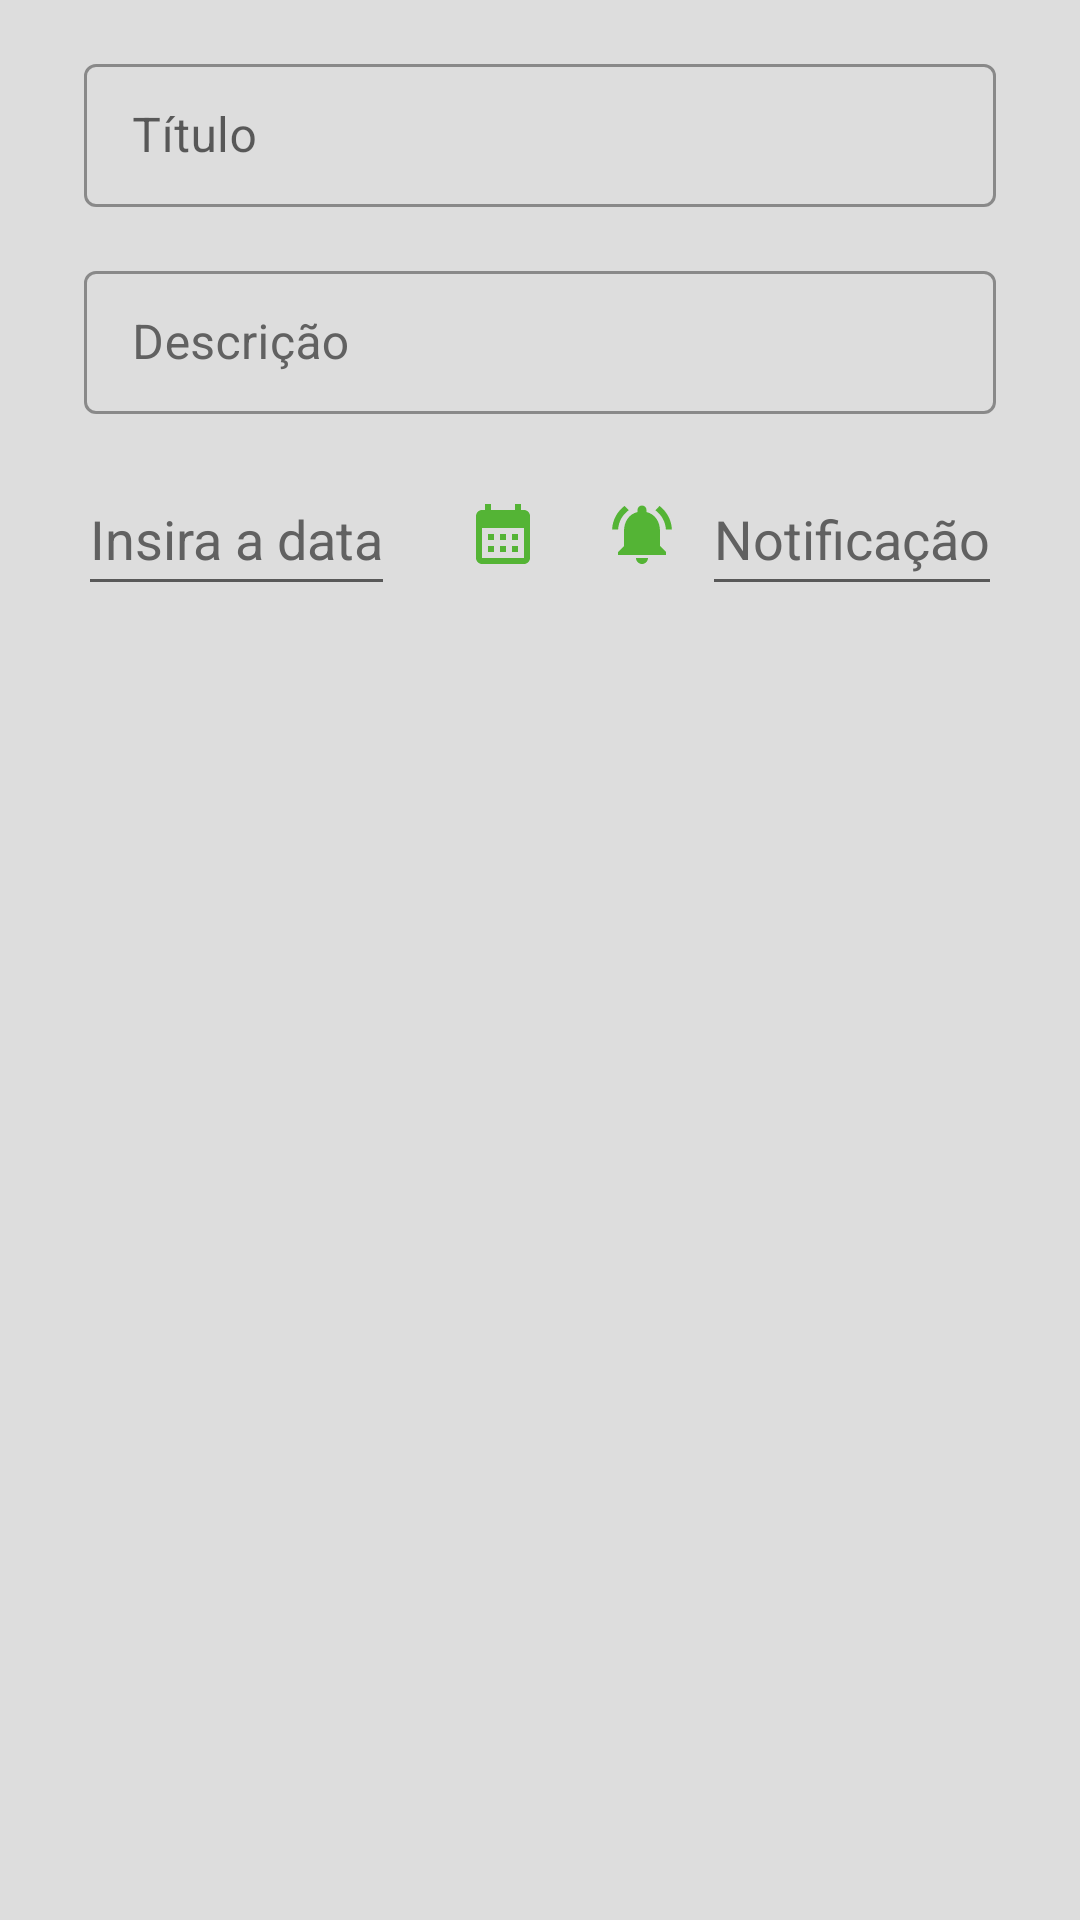

Screen size 1080px×1920px. Icon name, then its box in pixels as rect(x1, y1, x2, y2):
calendar: rect(476, 504, 530, 564)
notification: rect(612, 505, 672, 564)
